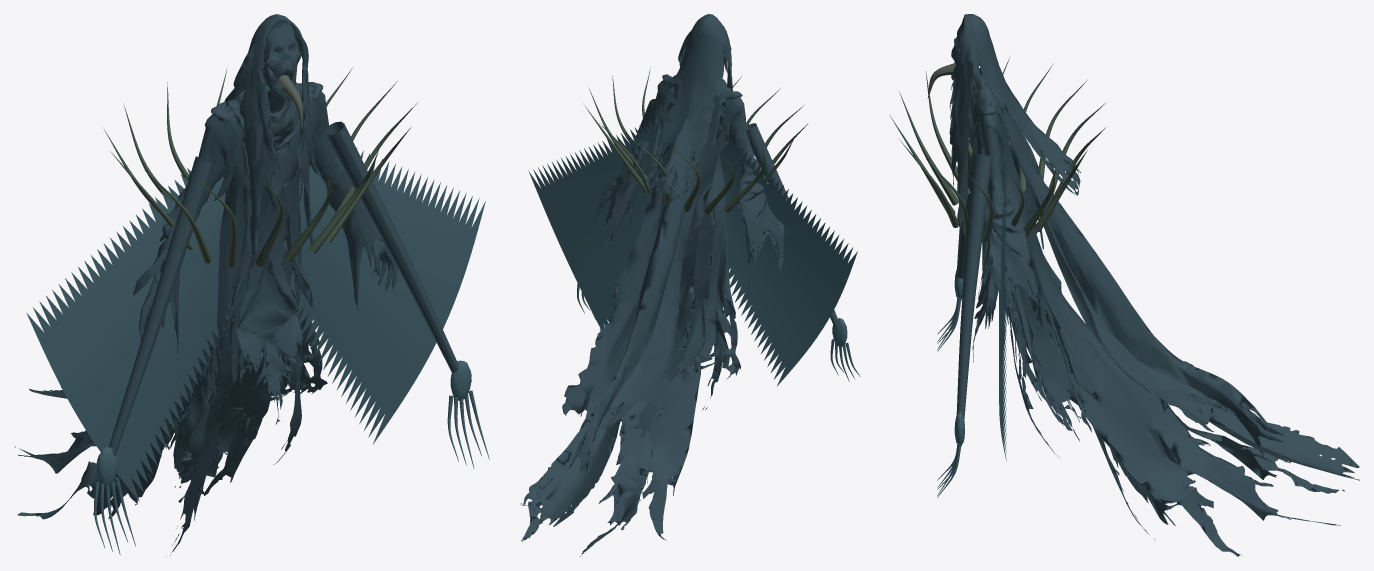
Rendered from 08-the-briar-tunnel.glb.
3 views of the same model, side by side, from view 1: azimuth 30°, elevation 25°; view 2: azimuth 150°, elevation 25°; view 3: azimuth 270°, elevation 25° (orthographic). The views are drawn at different scales.
Visible parts, largest first — view 1: sculpt (×6); view 2: sculpt (×5); view 3: sculpt (×4).
Boxes of the visible parts, box(x1,y1,x2,y2) form: sculpt (×6): box(14, 14, 489, 556); sculpt (×5): box(520, 14, 860, 556); sculpt (×4): box(889, 14, 1359, 556).
Size of the model in its own units: 2.86 by 3.69 by 3.
